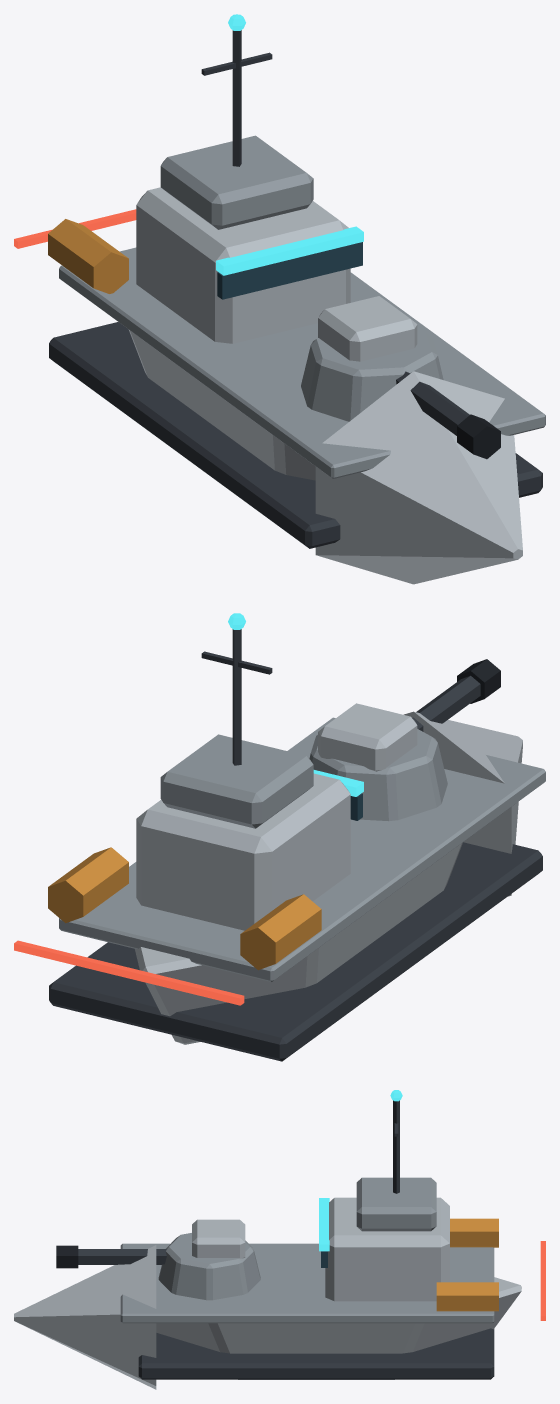
File: exo-gunboat.glb
The picture shows the model from 3 angles, top to bottom: view 1: azimuth 30°, elevation 25°; view 2: azimuth 150°, elevation 25°; view 3: azimuth 270°, elevation 25°; orthographic projection. The views are drawn at different scales.
Parts seen in each view (by area): view 1: body, turret; view 2: body, turret; view 3: body, turret.
Boxes of the visible parts, <box> form: body: <box>14,14,545,584</box>; turret: <box>301,296,500,459</box>; body: <box>14,613,545,1061</box>; turret: <box>309,659,500,821</box>; body: <box>14,1090,545,1389</box>; turret: <box>56,1219,260,1300</box>.
Bounding box in the file's own units: 2.1 × 3.72 × 5.98.
